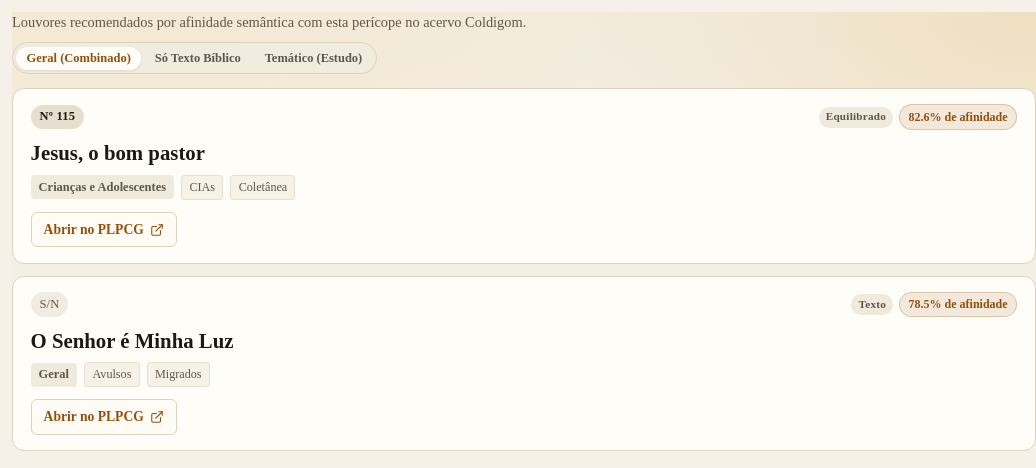
AbaLouvores › permite alternar entre os filtros de match bíblico e temático
Step 1. Click the button with class "louvores-filtro-btn" showing "Só Texto Bíblico" → {"x": 198, "y": 58}, box x1=144 y1=47 x2=251 y2=70
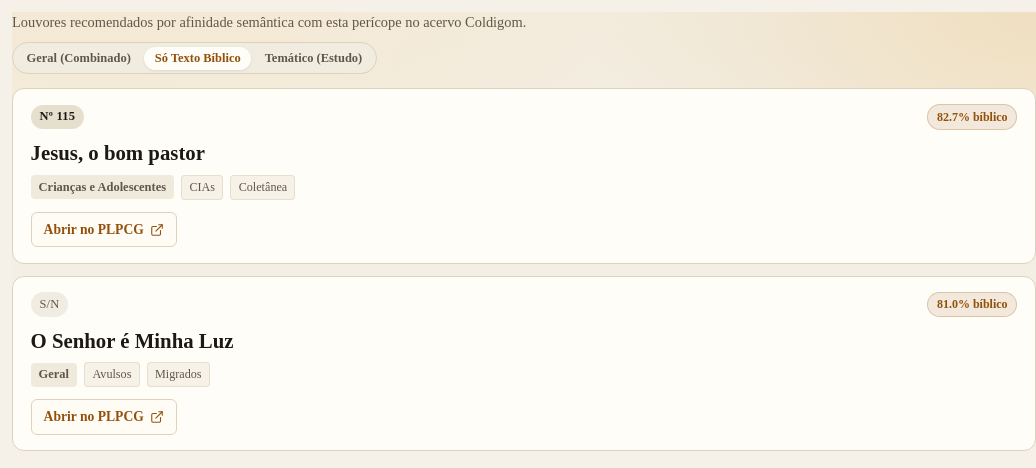
Expected: the text with class "louvor-badge-afinidade" shows "bíblico", x1=937 y1=110 x2=1008 y2=124
